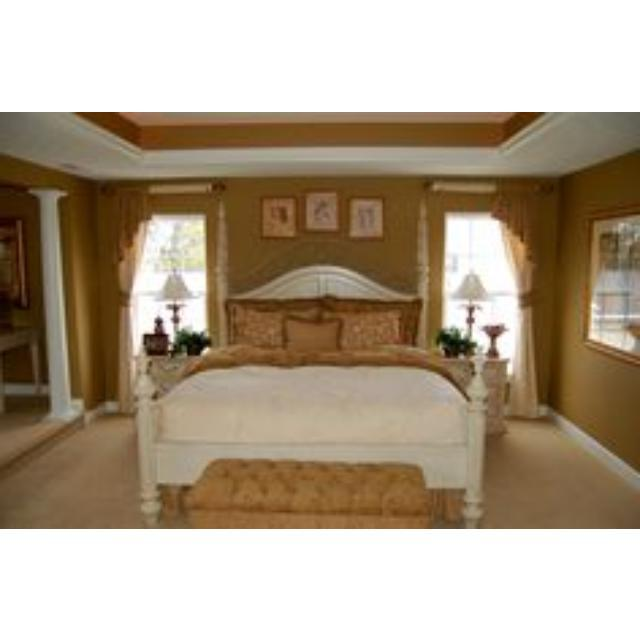bed: (138, 194, 485, 526)
lamp: (452, 270, 488, 340), (161, 267, 191, 333)
table: (147, 351, 199, 397), (482, 357, 509, 434), (442, 356, 474, 387)
wall-art: (588, 214, 640, 355), (262, 197, 295, 236), (350, 197, 382, 237), (306, 191, 338, 229)
